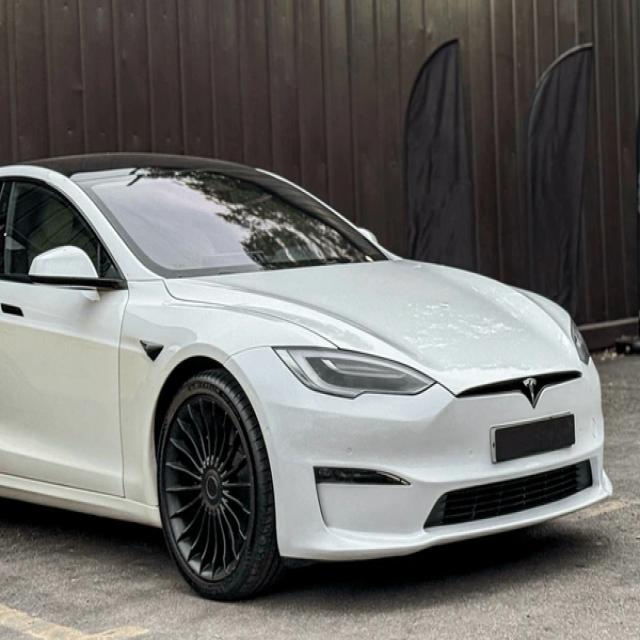tesla: (521, 375, 548, 405)
